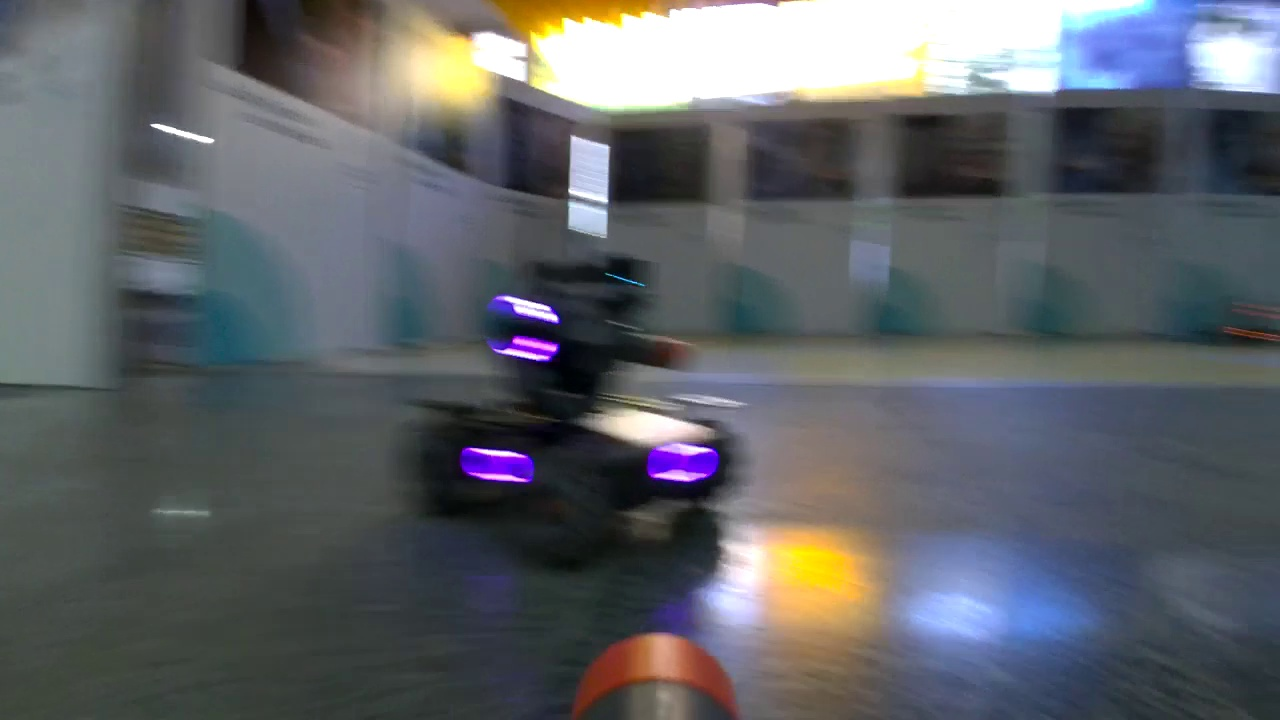robot: (411, 259, 731, 558)
